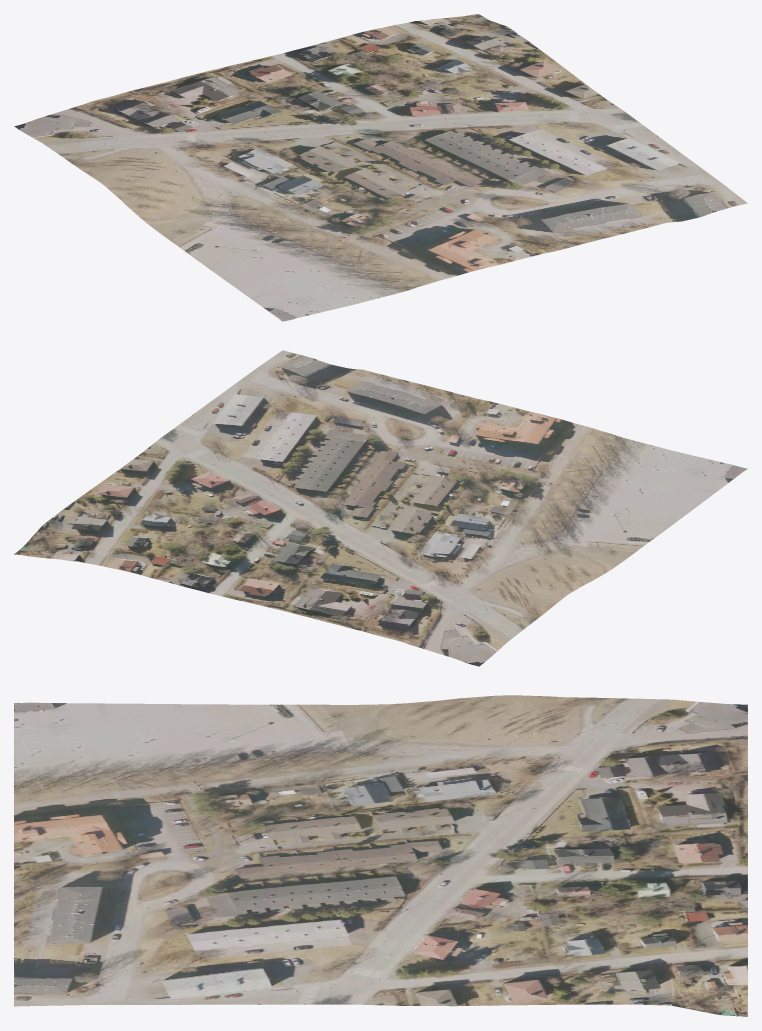
The model's file is CM_Terrain_24490663_6820818.fbx.
The picture shows the model from 3 angles, top to bottom: view 1: azimuth 30°, elevation 25°; view 2: azimuth 150°, elevation 25°; view 3: azimuth 270°, elevation 25°; orthographic projection. The views are drawn at different scales.
Parts seen in each view (by area): view 1: CM_Terrain_24490663_6820818_LOD0; view 2: CM_Terrain_24490663_6820818_LOD0; view 3: CM_Terrain_24490663_6820818_LOD0.
Boxes of the visible parts, x1,y1,x2,y2 form: CM_Terrain_24490663_6820818_LOD0: (14,14,747,321); CM_Terrain_24490663_6820818_LOD0: (14,350,747,666); CM_Terrain_24490663_6820818_LOD0: (14,695,747,1016).
Size of what is drawn, in the model's own units: 205 by 5.8 by 205.
